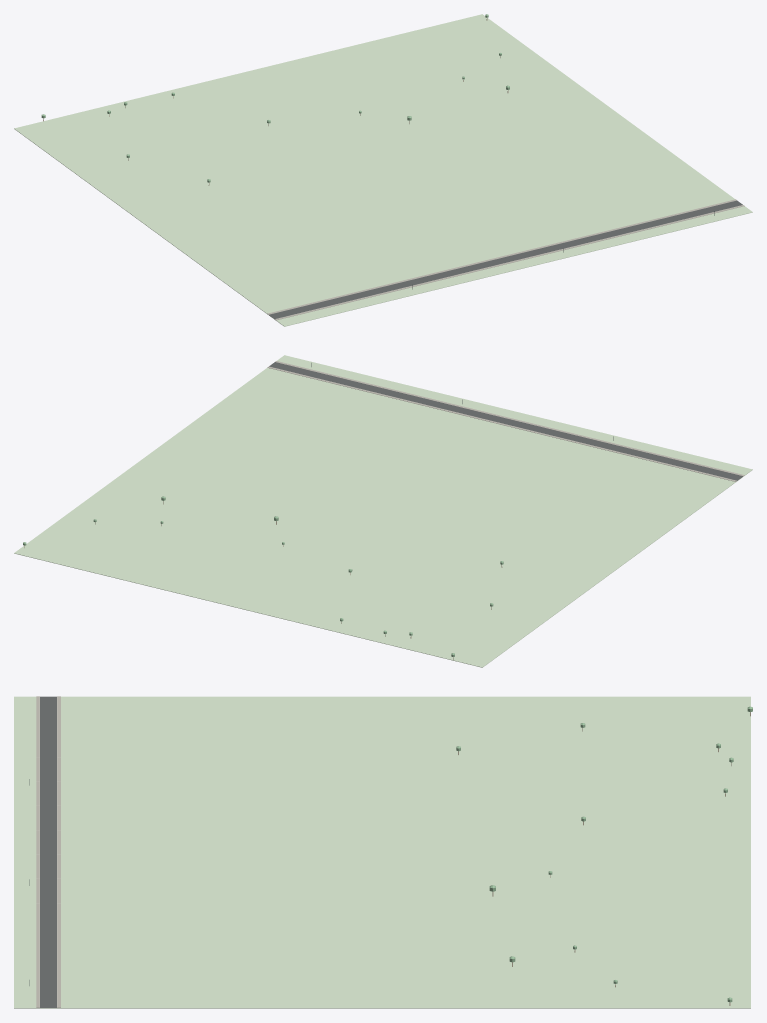
Rendered from chunk_6_5_low.glb.
The picture shows the model from 3 angles, top to bottom: view 1: azimuth 30°, elevation 25°; view 2: azimuth 150°, elevation 25°; view 3: azimuth 270°, elevation 25°; orthographic projection. The views are drawn at different scales.
Parts seen in each view (by area): view 1: city_grass, city_world_asphalt, city_world_sidewalk, city_curb; view 2: city_grass, city_world_asphalt, city_world_sidewalk, city_curb; view 3: city_grass, city_world_asphalt, city_world_sidewalk, city_curb.
Part boxes in pixels (x1,y1,x2,y2): city_grass: [14, 14, 752, 326]; city_world_asphalt: [269, 200, 742, 318]; city_world_sidewalk: [267, 199, 744, 320]; city_curb: [269, 200, 742, 319]; city_grass: [14, 355, 752, 667]; city_world_asphalt: [269, 362, 742, 480]; city_world_sidewalk: [267, 361, 744, 481]; city_curb: [271, 362, 743, 480]; city_grass: [14, 696, 750, 1008]; city_world_asphalt: [40, 696, 56, 1007]; city_world_sidewalk: [36, 696, 60, 1007]; city_curb: [36, 696, 60, 1007].
Bounding box in the file's own units: 512 × 9.3 × 513.
